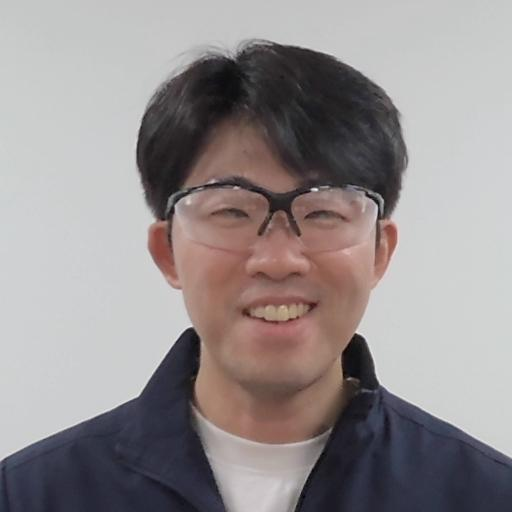glasses: (145, 32, 421, 414)
